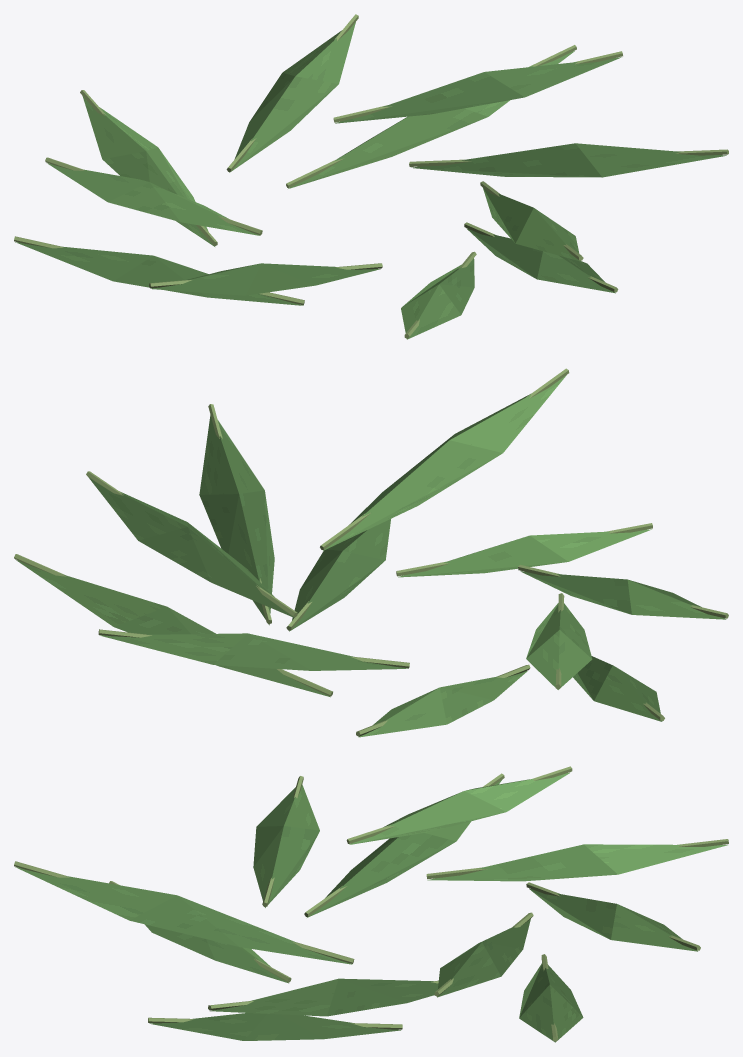
Rendered from cabbage.glb.
3 views of the same model, one above another, from view 1: azimuth 30°, elevation 25°; view 2: azimuth 150°, elevation 25°; view 3: azimuth 270°, elevation 25° (orthographic). The views are drawn at different scales.
Parts seen in each view (by area): view 1: block_cut leafy ribbon blade (×13), block_cut leafy ribbon tip (×11), block_cut leafy ribbon vein (×3); view 2: block_cut leafy ribbon blade (×14), block_cut leafy ribbon tip (×13), block_cut leafy ribbon vein (×2); view 3: block_cut leafy ribbon blade (×14), block_cut leafy ribbon tip (×12), block_cut leafy ribbon vein (×4).
Part boxes in pixels (<box>): block_cut leafy ribbon blade (×13): <box>102,72,602,314</box>; block_cut leafy ribbon tip (×11): <box>15,22,726,339</box>; block_cut leafy ribbon vein (×3): <box>286,45,728,188</box>; block_cut leafy ribbon blade (×14): <box>114,440,631,724</box>; block_cut leafy ribbon tip (×13): <box>16,375,726,737</box>; block_cut leafy ribbon vein (×2): <box>14,368,569,696</box>; block_cut leafy ribbon blade (×14): <box>130,791,617,1040</box>; block_cut leafy ribbon tip (×12): <box>15,772,727,1042</box>; block_cut leafy ribbon vein (×4): <box>14,766,728,1029</box>.
Bounding box in the file's own units: 0.1031 × 0.0216 × 0.1058.
Materials: 2 (2 with a texture image).
